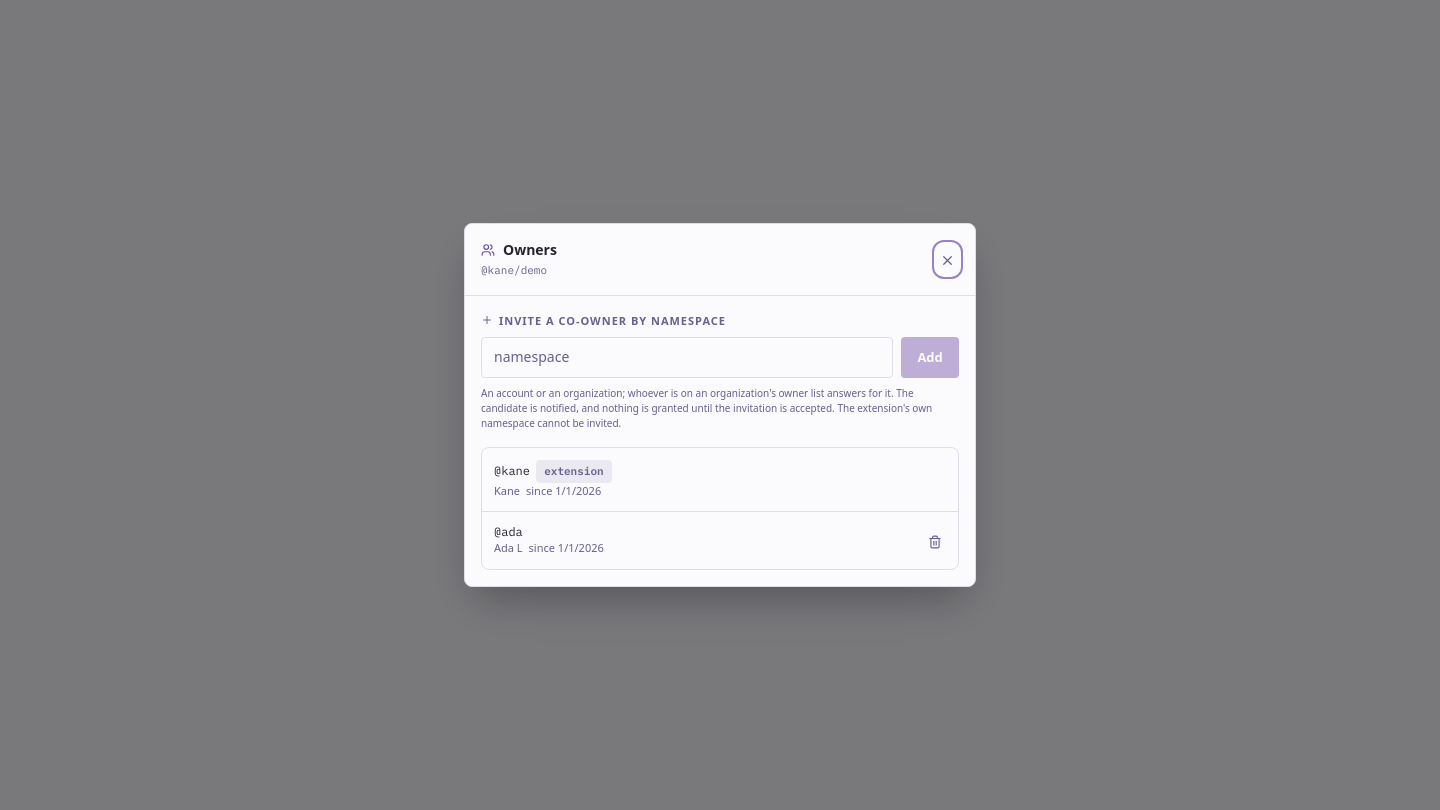
Scenario: OwnersPanel › surfaces a removal failure
expect the text "@ada" is shown: met, box [494, 524, 523, 540]
Click the button named "Remove @ada". click: click(935, 541)
box: [924, 529, 946, 553]
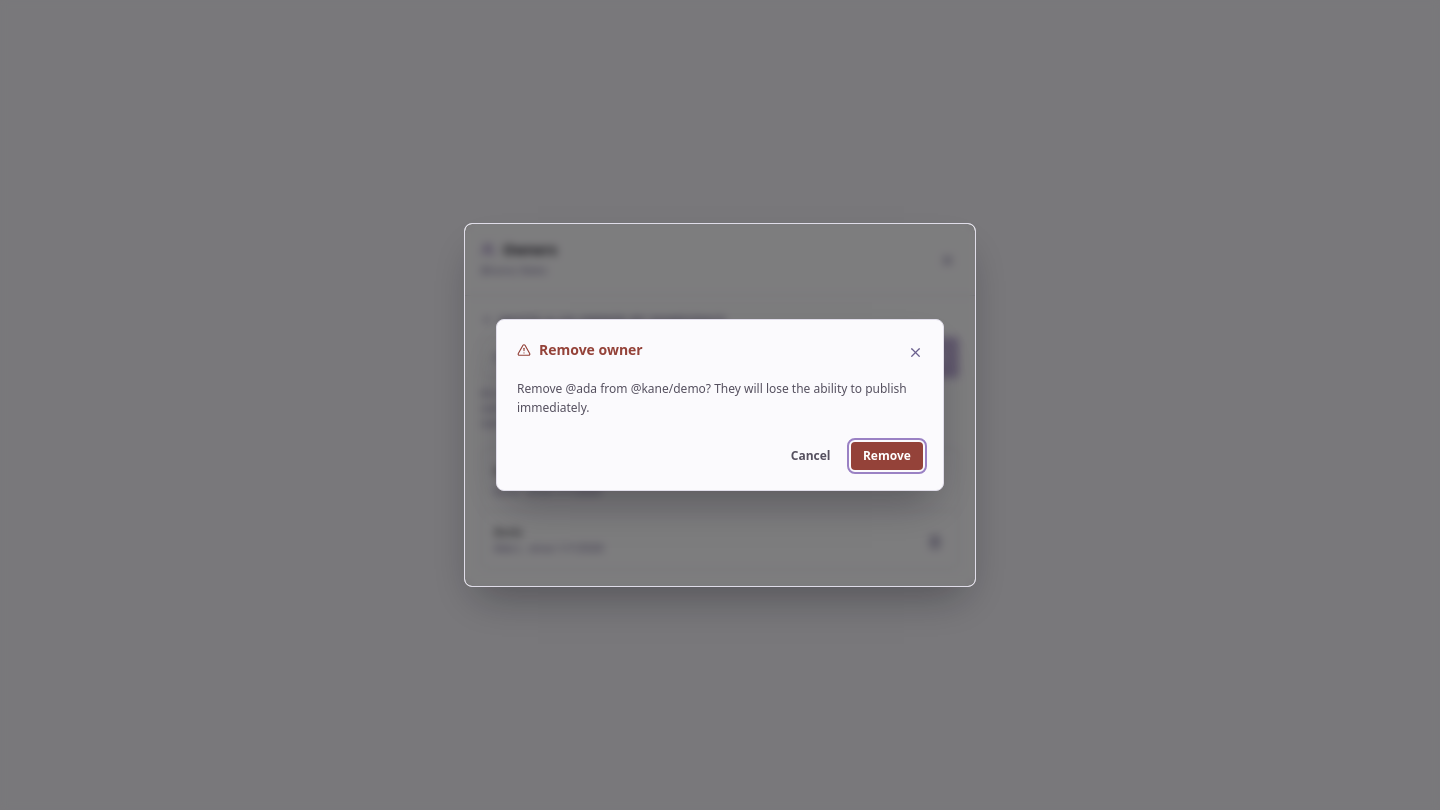
Click the button "Remove". click: click(887, 456)
box: [851, 442, 923, 470]
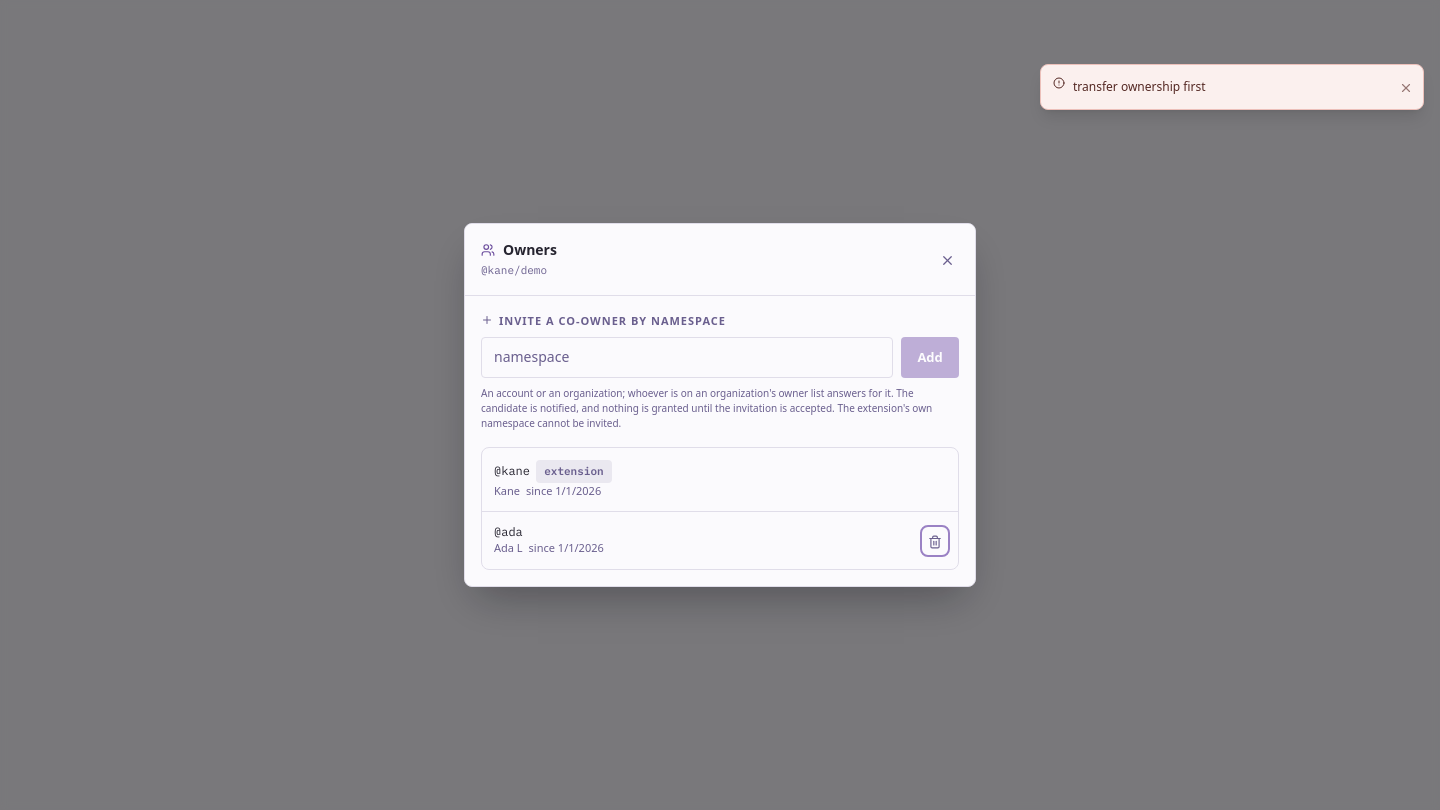
expect the text "transfer ownership first" is shown: met, box [1073, 78, 1206, 95]
